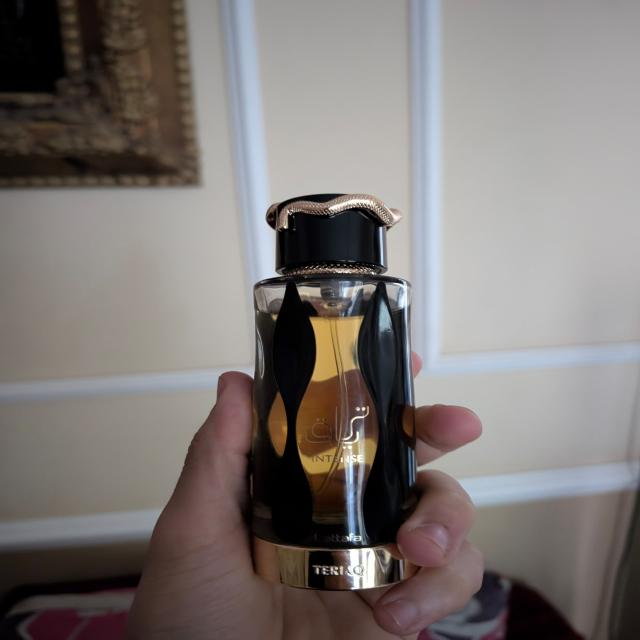Teriaq-Intense: (248, 192, 419, 590)
